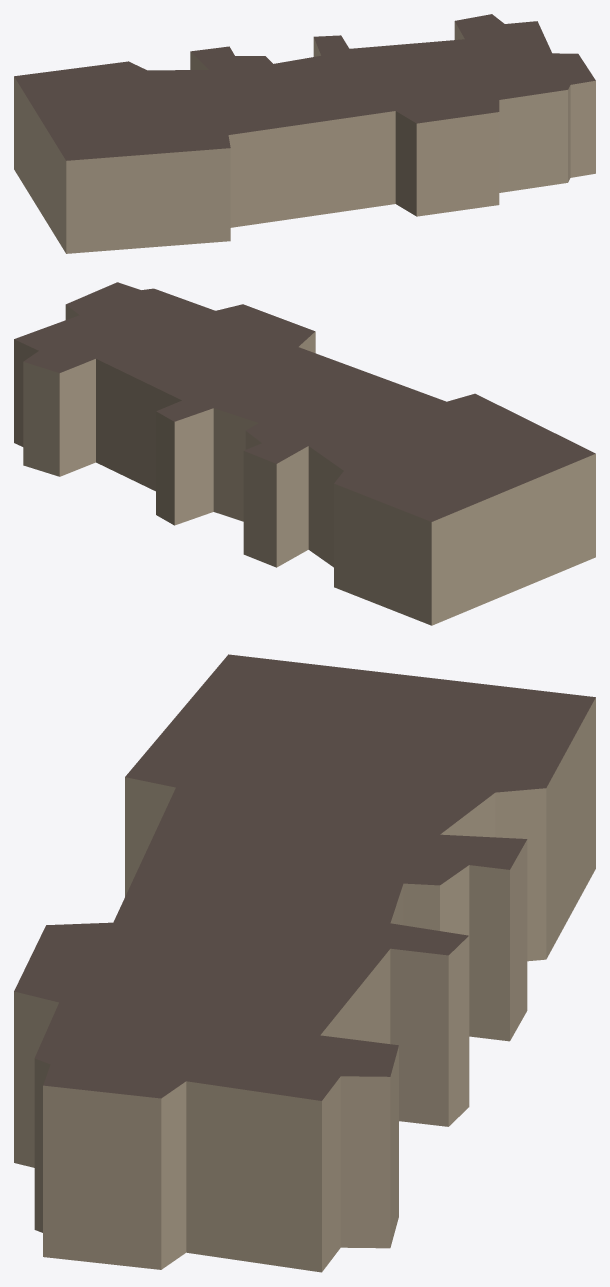
3 views of the same model, one above another, from view 1: azimuth 30°, elevation 25°; view 2: azimuth 150°, elevation 25°; view 3: azimuth 270°, elevation 25° (orthographic). The views are drawn at different scales.
Visible parts, largest first — view 1: HP-w1515071107; view 2: HP-w1515071107; view 3: HP-w1515071107.
Boxes of the visible parts, x1,y1,x2,y2 form: HP-w1515071107: (14,14,595,253); HP-w1515071107: (14,282,595,625); HP-w1515071107: (14,654,595,1272).
Size of the model in its own units: 50.27 by 9 by 27.69.
